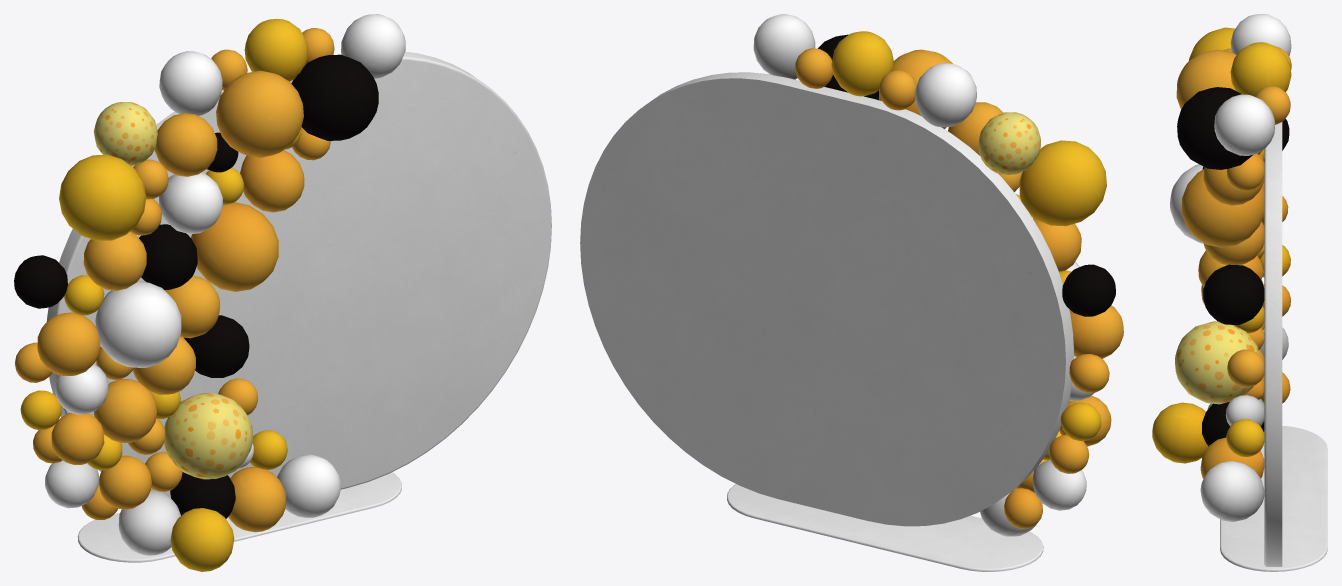
File: PartyBalloons03_GR6_1.FBX
The picture shows the model from 3 angles, left to right: view 1: azimuth 30°, elevation 25°; view 2: azimuth 150°, elevation 25°; view 3: azimuth 270°, elevation 25°; orthographic projection. The views are drawn at different scales.
Parts seen in each view (by area): view 1: PartyBalloons03_GR6_1; view 2: PartyBalloons03_GR6_1; view 3: PartyBalloons03_GR6_1.
Boxes of the visible parts, <box> form: PartyBalloons03_GR6_1: <box>14,14,551,571</box>; PartyBalloons03_GR6_1: <box>580,14,1123,571</box>; PartyBalloons03_GR6_1: <box>1152,14,1327,571</box>.
Size of what is drawn, in the model's own units: 3.29 by 2.87 by 0.9765.
